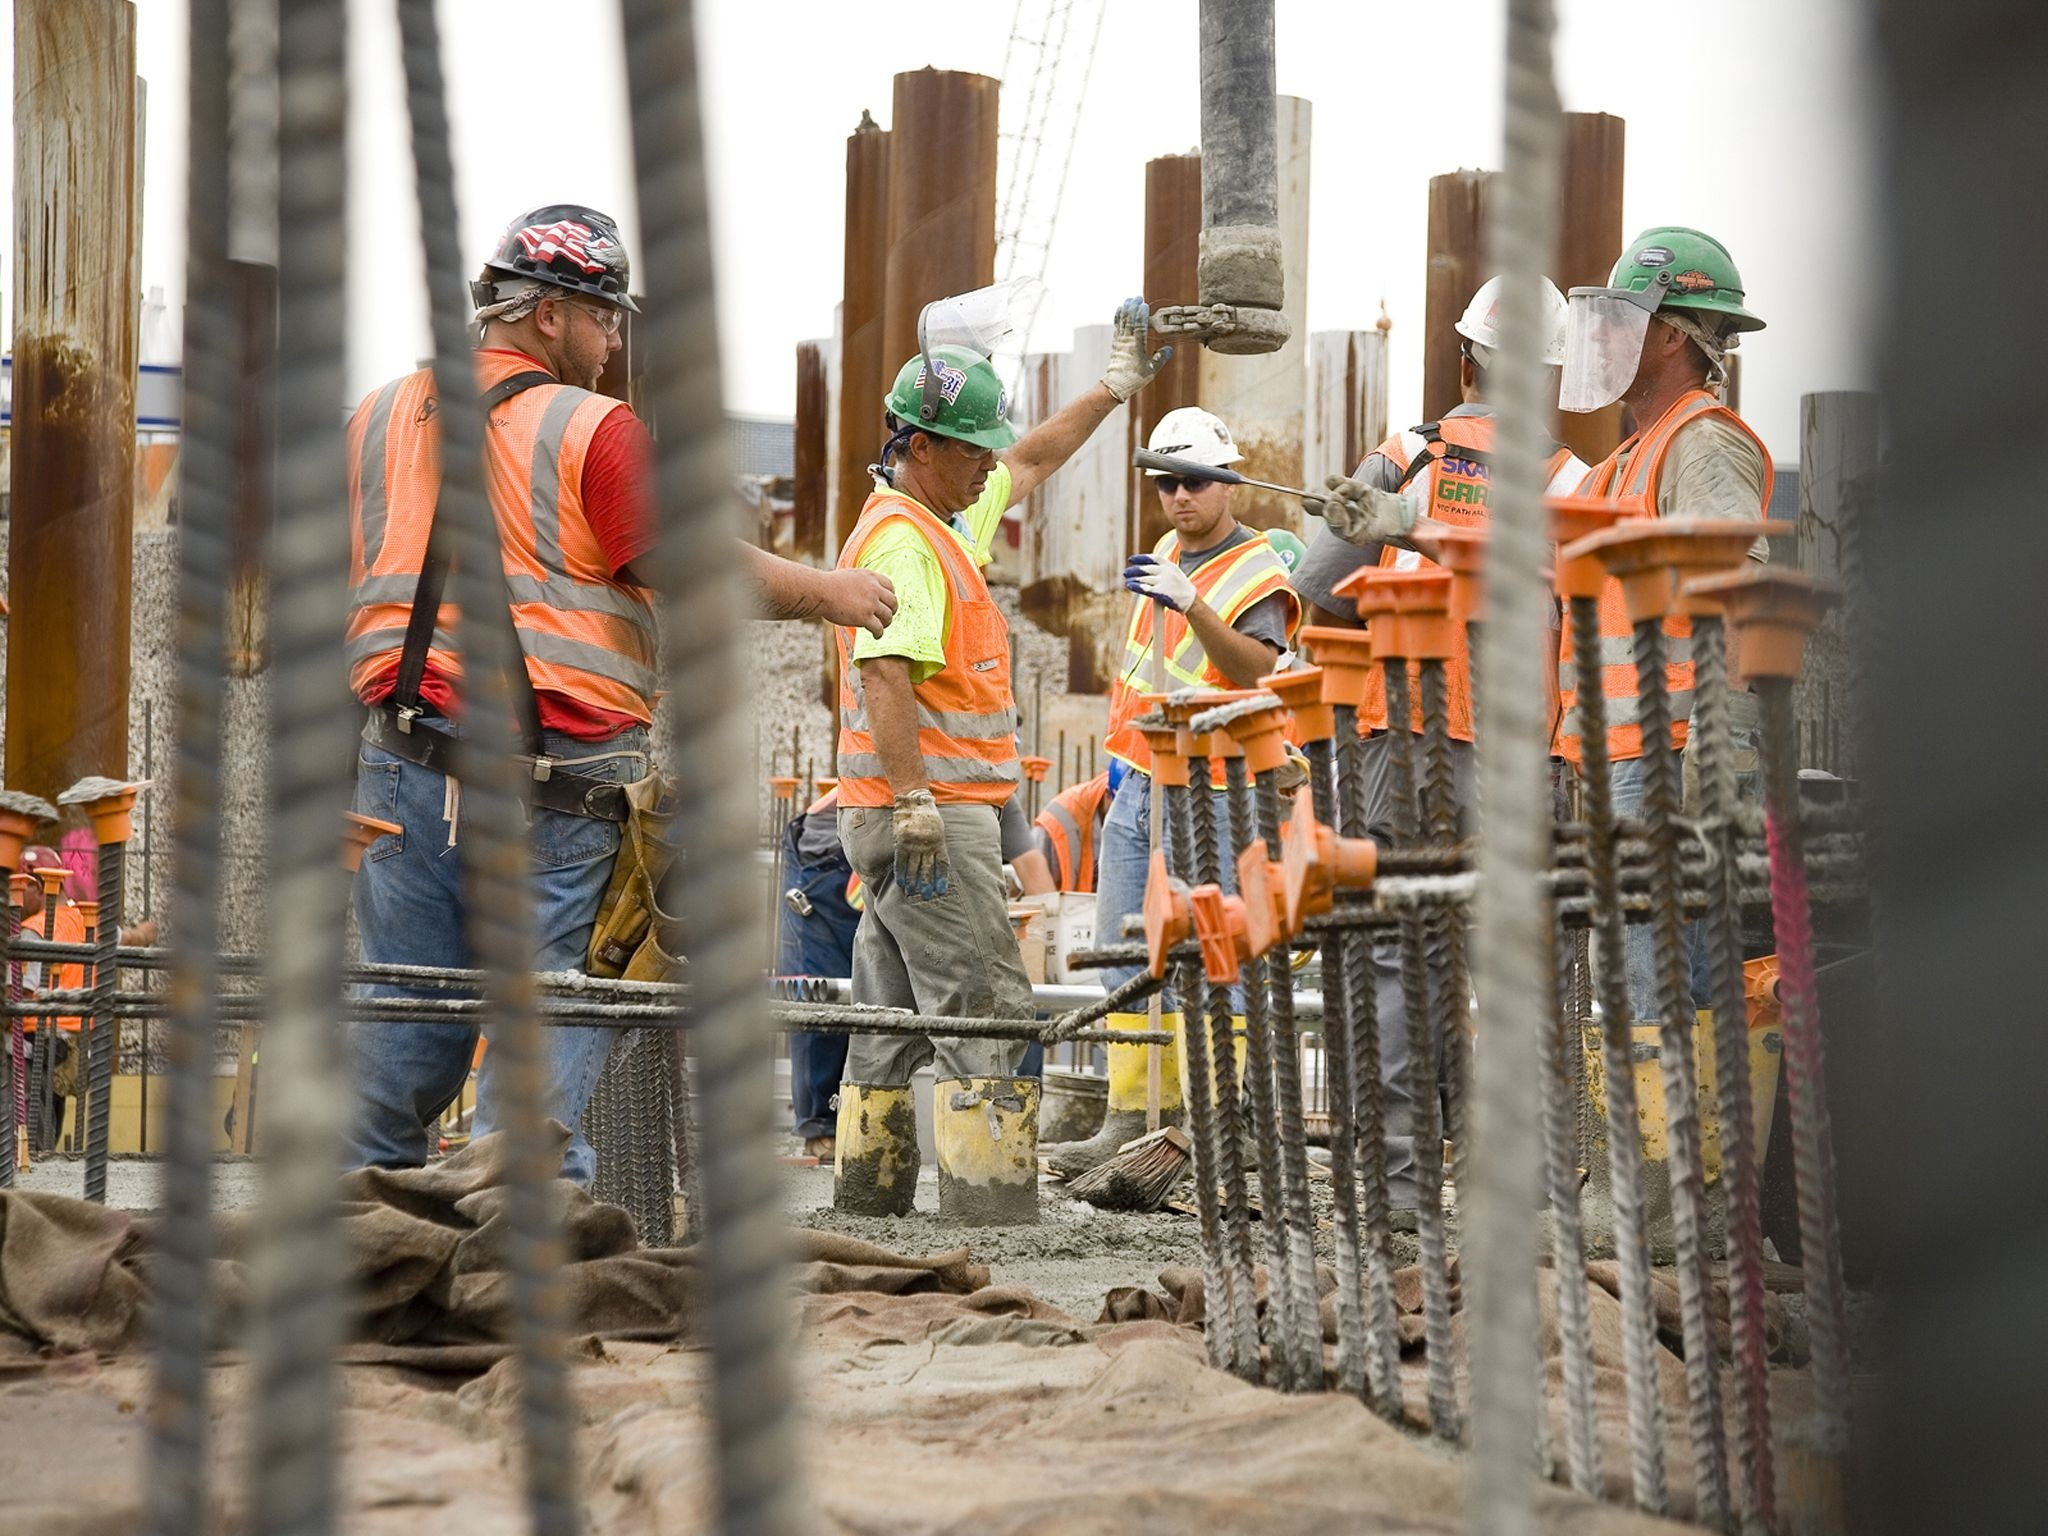blue: (468, 198, 642, 394)
white: (1451, 261, 1574, 411), (1142, 403, 1247, 537)
